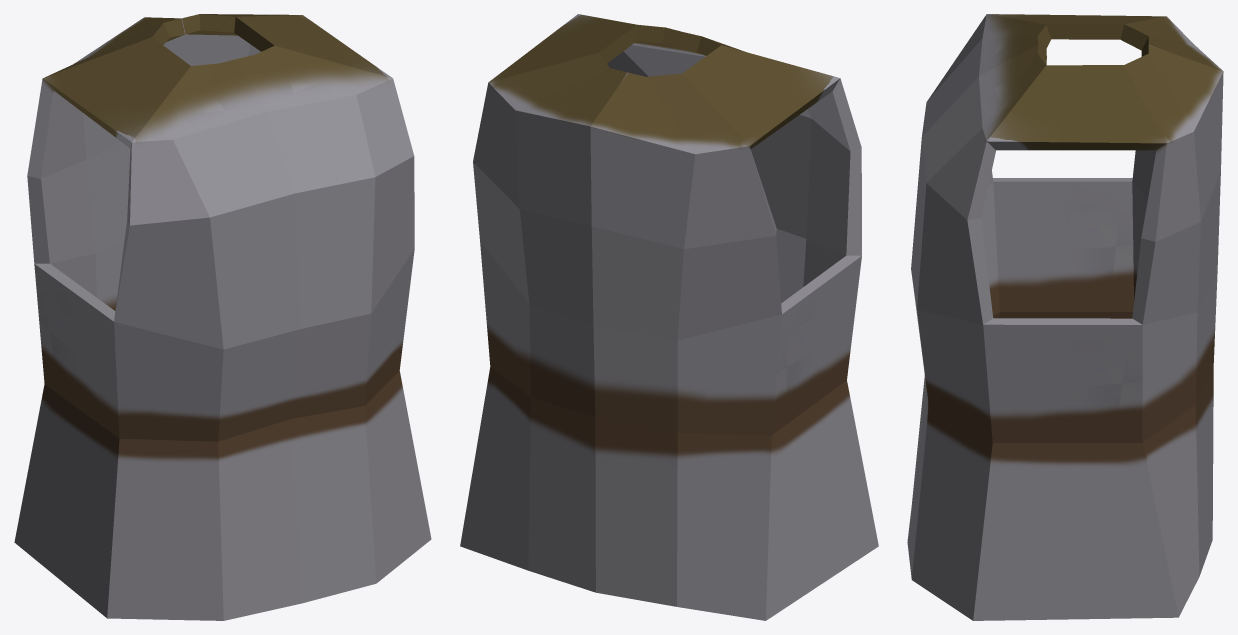
File: Korpus.fbx
The picture shows the model from 3 angles, left to right: view 1: azimuth 30°, elevation 25°; view 2: azimuth 150°, elevation 25°; view 3: azimuth 270°, elevation 25°; orthographic projection.
Visible parts, largest first — view 1: Korpus; view 2: Korpus; view 3: Korpus.
Boxes of the visible parts, x1,y1,x2,y2 form: Korpus: (14,14,431,620); Korpus: (460,14,878,620); Korpus: (907,14,1223,620).
Size of the model in its own units: 60.05 by 88.53 by 50.63.
1 material, 1 textured.
